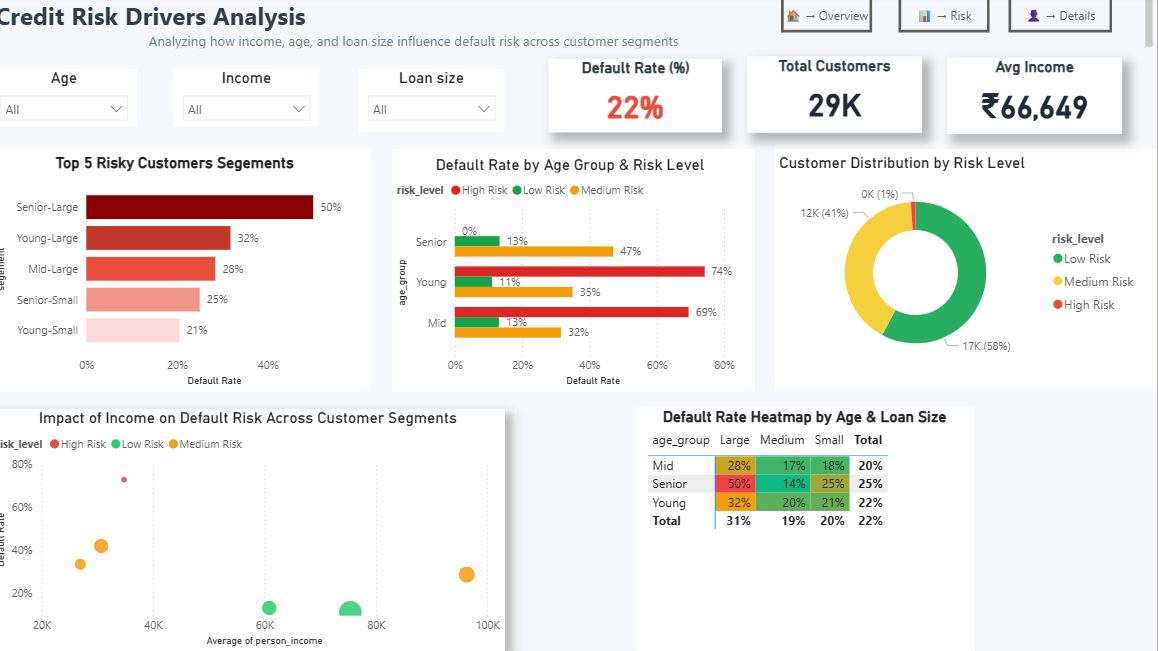

This screenshot's page, from the dashboard's own definition file:
{"tool":"powerbi","page":{"name":"Page 2","canvas":[1280,720],"ordinal":1},"visuals":[{"type":"textbox","box":[0,0,1280.3,63.6],"z":0},{"type":"slicer","title":"Age","fields":{"Values":["credit_risk_dataset.age_group"]},"box":[0,80.7,160,63],"z":1000},{"type":"slicer","title":"Income","fields":{"Values":["credit_risk_dataset.income_group"]},"box":[200.5,80.7,160.2,63.6],"z":2000},{"type":"slicer","title":"Loan size","fields":{"Values":["credit_risk_dataset.loan_size_group"]},"box":[403.5,80.7,160.2,69.7],"z":3000},{"type":"shape","box":[0,168.8,417,266.6],"z":4000},{"type":"clusteredBarChart","title":"Top  5 Risky  Customers Segements","fields":{"Y":["credit_risk_dataset.Default Rate"],"Category":["credit_risk_dataset.segement"]},"box":[0,174.9,403.5,260.5],"z":5000},{"type":"shape","box":[440.2,168.8,398.6,266.6],"z":6000},{"type":"clusteredBarChart","title":"Default Rate by Age Group & Risk Level","fields":{"Y":["credit_risk_dataset.Default Rate"],"Series":["credit_risk_dataset.risk_level"],"Category":["credit_risk_dataset.age_group"]},"box":[440.2,176.1,390.1,259.2],"z":7000},{"type":"shape","box":[0,454.2,577.7,266.2],"z":8000},{"type":"scatterChart","title":"Impact of Income on Default Risk Across Customer Segments","fields":{"Y":["credit_risk_dataset.Default Rate"],"X":["Avg(credit_risk_dataset.person_income)"],"Category":["credit_risk_dataset.loan_size_group"],"Size":["credit_risk_dataset.Total Customers"],"Series":["credit_risk_dataset.risk_level"]},"box":[0,454.2,564,266.2],"z":9000},{"type":"shape","box":[860.9,168.8,419.4,266.6],"z":10000},{"type":"donutChart","title":"Customer Distribution by Risk Level","fields":{"Category":["credit_risk_dataset.risk_level"],"Y":["credit_risk_dataset.Total Customers"]},"box":[860.9,174.9,408.4,242.1],"z":11000},{"type":"card","title":"Default Rate (%)","fields":{"Values":["credit_risk_dataset.Default Rate"]},"box":[612,70,190.7,81],"z":12000},{"type":"card","title":"Avg Income","fields":{"Values":["credit_risk_dataset.Avg Income Formatted"]},"box":[1049.7,68.6,192.1,83.7],"z":13000},{"type":"card","title":"Total Customers","fields":{"Values":["credit_risk_dataset.Loan Status"]},"box":[830.2,67.2,192.1,83.7],"z":14000},{"type":"shape","box":[708.1,452.8,371.9,267.6],"z":15000},{"type":"pivotTable","title":"Default Rate Heatmap by Age & Loan Size","fields":{"Rows":["credit_risk_dataset.age_group"],"Columns":["credit_risk_dataset.loan_size_group"],"Values":["credit_risk_dataset.Default Rate"]},"box":[716.3,452.8,354,267.6],"z":16000},{"type":"actionButton","box":[996.2,1.4,100.2,39.8],"z":16001},{"type":"actionButton","box":[867.2,1.4,100.2,39.8],"z":16002},{"type":"actionButton","box":[1117,1.4,113.9,39.8],"z":16003}]}

Visuals, with their boxes in screenshot pixels (x1, y1, x2, y2), scaled from the page's 1280x720 canvas onto the 1158x651 screenshot:
textbox: (0,0,1157,58)
"Age" slicer: (0,73,145,130)
"Income" slicer: (181,73,326,130)
"Loan size" slicer: (365,73,510,136)
shape: (0,153,377,394)
"Top  5 Risky  Customers Segements" clusteredBarChart: (0,158,365,394)
shape: (398,153,759,394)
"Default Rate by Age Group & Risk Level" clusteredBarChart: (398,159,751,394)
shape: (0,411,523,650)
"Impact of Income on Default Risk Across Customer Segments" scatterChart: (0,411,510,650)
shape: (779,153,1157,394)
"Customer Distribution by Risk Level" donutChart: (779,158,1148,377)
"Default Rate (%)" card: (554,63,726,137)
"Avg Income" card: (950,62,1123,138)
"Total Customers" card: (751,61,925,136)
shape: (641,409,977,650)
"Default Rate Heatmap by Age & Loan Size" pivotTable: (648,409,968,650)
actionButton: (901,1,992,37)
actionButton: (785,1,875,37)
actionButton: (1011,1,1114,37)
